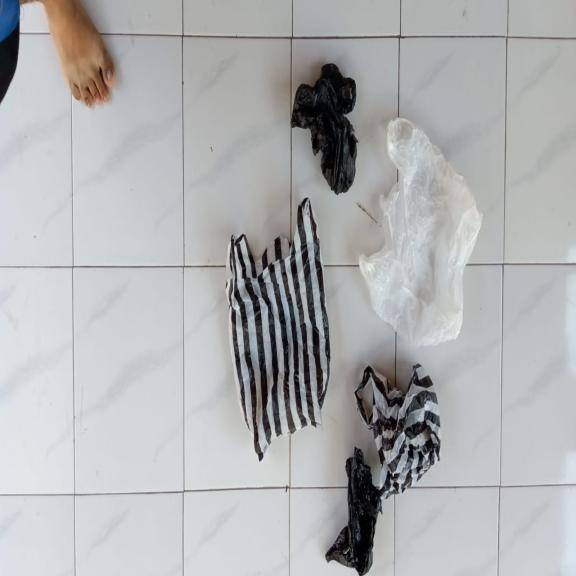Plastik: (358, 119, 482, 348), (226, 196, 330, 462), (353, 362, 441, 502), (290, 63, 358, 194), (325, 445, 382, 576)
